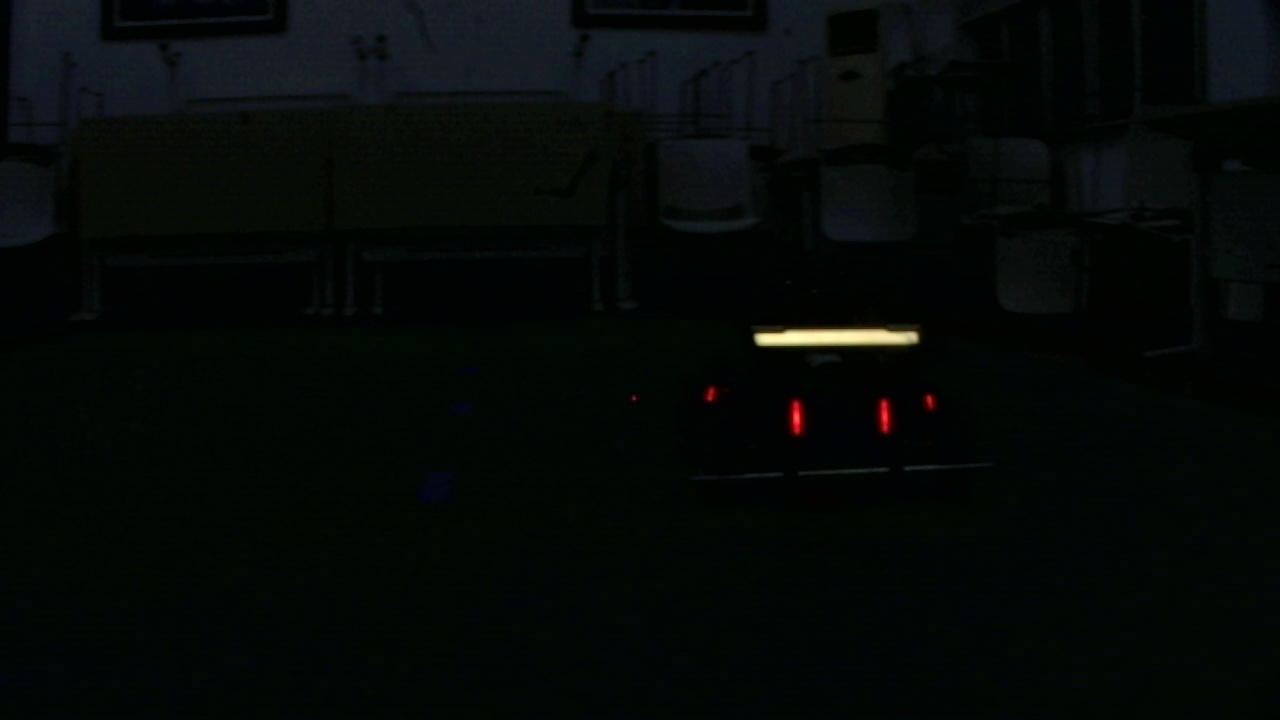lamp: (874, 394, 891, 438), (790, 398, 807, 437)
pair1: (791, 401, 888, 432)
